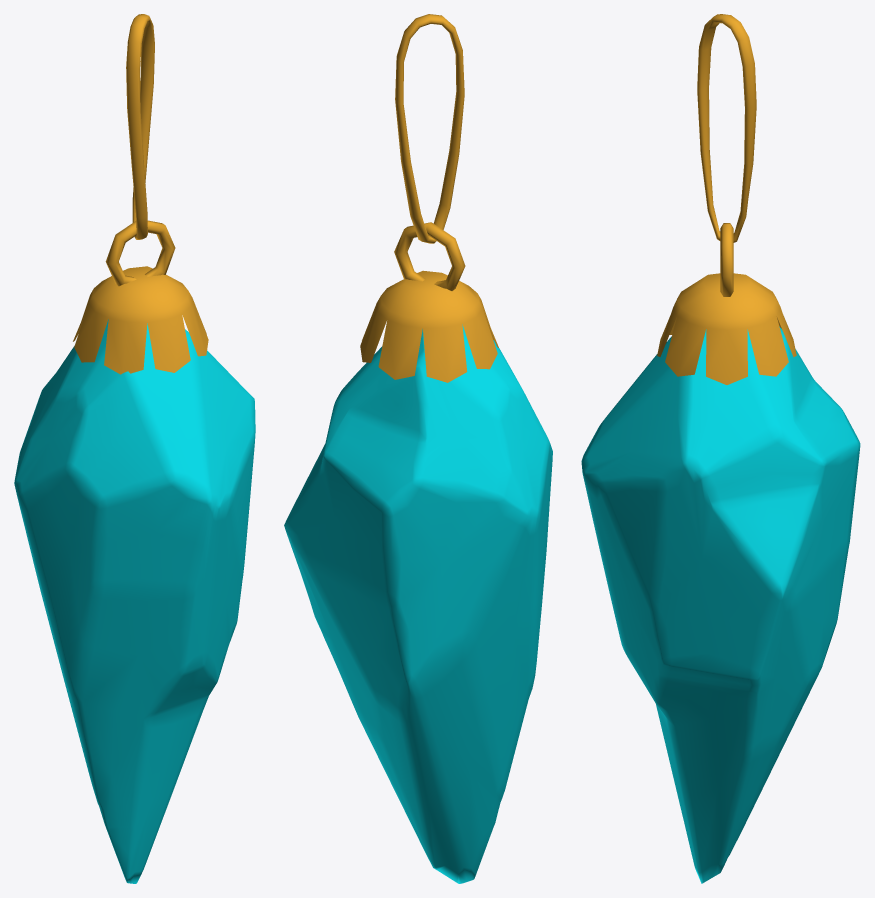
File: Ball_Icicle.fbx
3 views of the same model, side by side, from view 1: azimuth 30°, elevation 25°; view 2: azimuth 150°, elevation 25°; view 3: azimuth 270°, elevation 25° (orthographic). The views are drawn at different scales.
Parts seen in each view (by area): view 1: Ball_Icicle; view 2: Ball_Icicle; view 3: Ball_Icicle.
Part boxes in pixels (x1,y1,x2,y2): Ball_Icicle: (14, 14, 255, 883); Ball_Icicle: (284, 14, 552, 883); Ball_Icicle: (581, 14, 860, 883).
Bounding box in the file's own units: 3.03 × 10.8 × 3.12.
